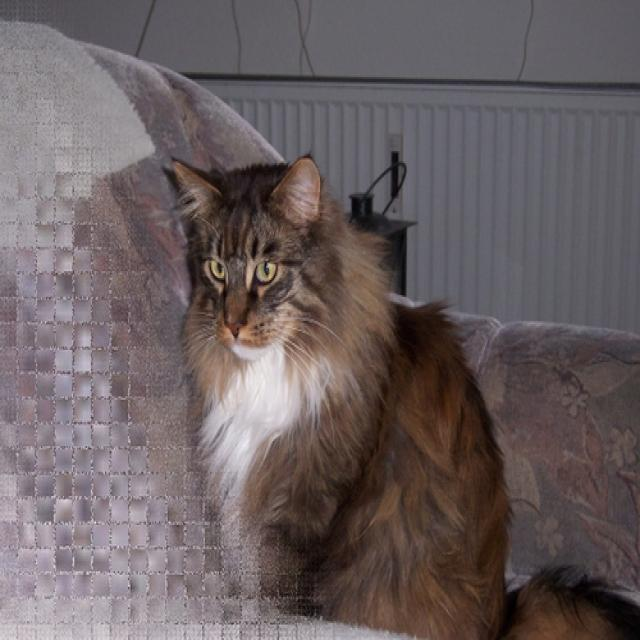left eye: (252, 256, 278, 284)
